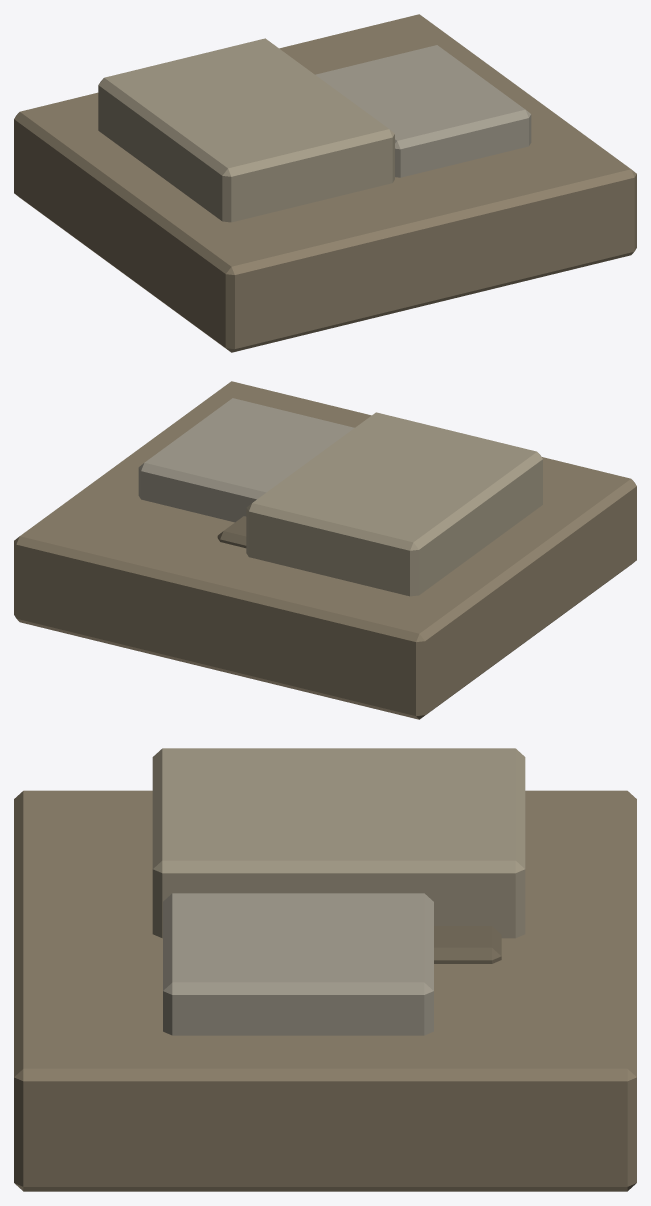
File: rubble.glb
3 renders of one model, top to bottom at view 1: azimuth 30°, elevation 25°; view 2: azimuth 150°, elevation 25°; view 3: azimuth 270°, elevation 25°, orthographic. The views are drawn at different scales.
Visible parts, largest first — view 1: body; view 2: body; view 3: body.
Part boxes in pixels (box(x1,y1,x2,y2)): body: box(14, 14, 636, 352); body: box(14, 381, 636, 719); body: box(14, 748, 636, 1191).
Bounding box in the file's own units: 1 × 0.32 × 0.92.
